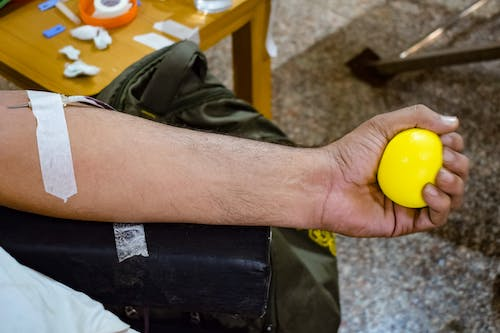blood: (83, 93, 118, 112)
